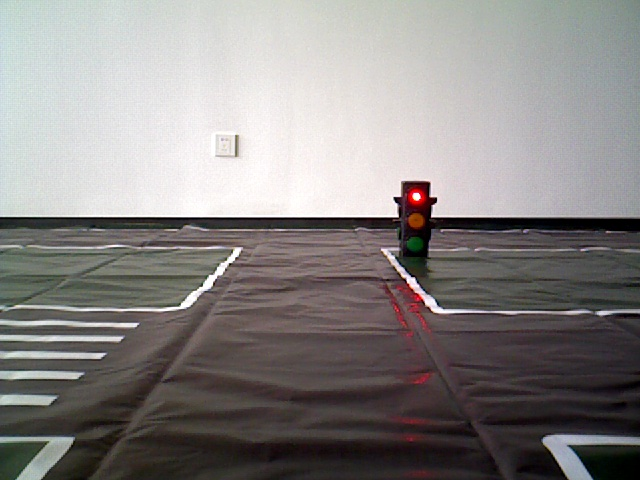red: (401, 182, 427, 255)
